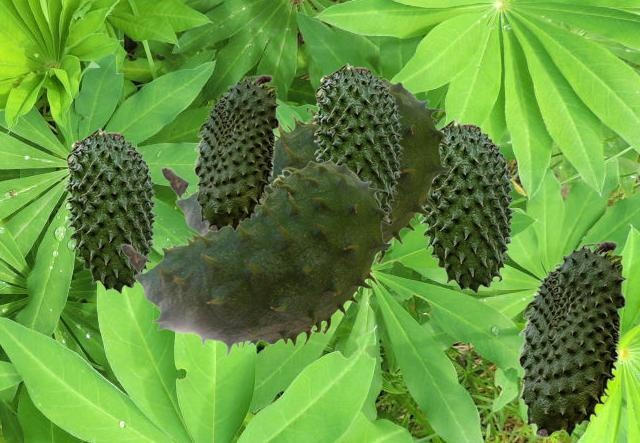guyabano: (160, 78, 451, 265), (120, 160, 392, 357), (517, 240, 626, 437), (418, 118, 515, 293), (63, 127, 157, 293), (312, 62, 403, 212), (193, 74, 279, 231)
